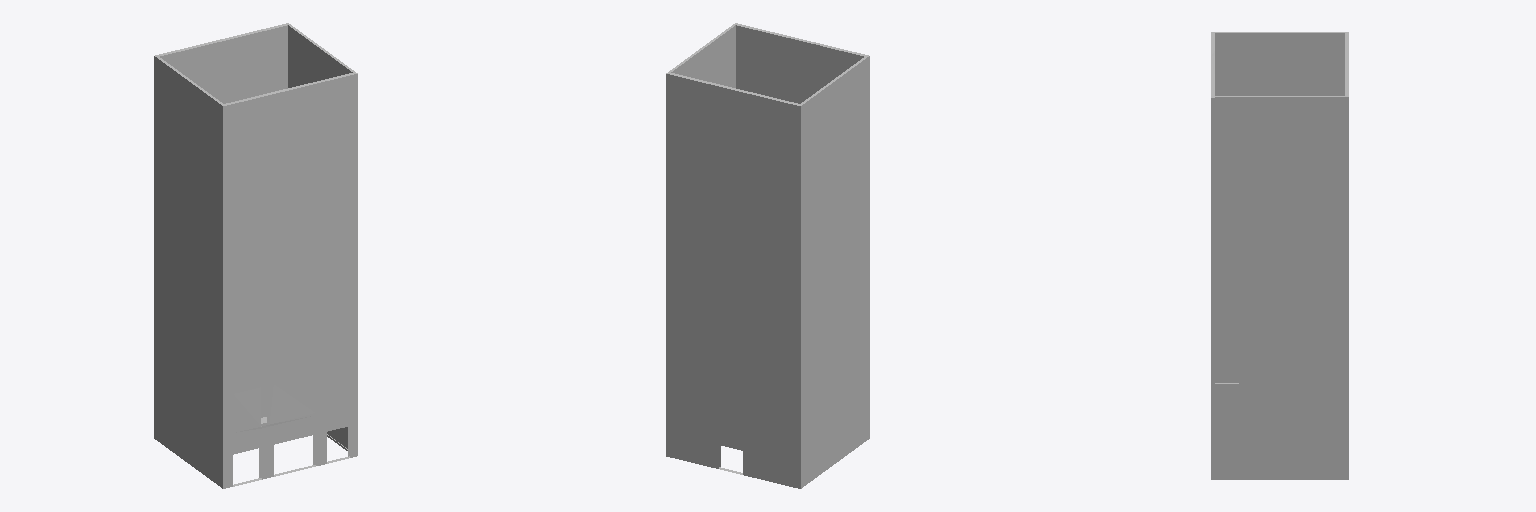
File: mainTowerInternal.obj
The picture shows the model from 3 angles: view 1: azimuth 30°, elevation 25°; view 2: azimuth 150°, elevation 25°; view 3: azimuth 270°, elevation 25°; orthographic projection.
Visible parts, largest first — view 1: mainTowerInternal; view 2: mainTowerInternal; view 3: mainTowerInternal.
Boxes of the visible parts, box(x1,y1,x2,y2) form: mainTowerInternal: box(154, 23, 357, 488); mainTowerInternal: box(666, 23, 869, 488); mainTowerInternal: box(1211, 32, 1348, 479).
Bounding box in the file's own units: 17.53 × 47.68 × 15.65.